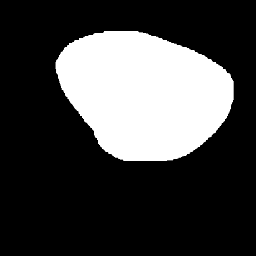mass: (75, 35, 218, 155)
